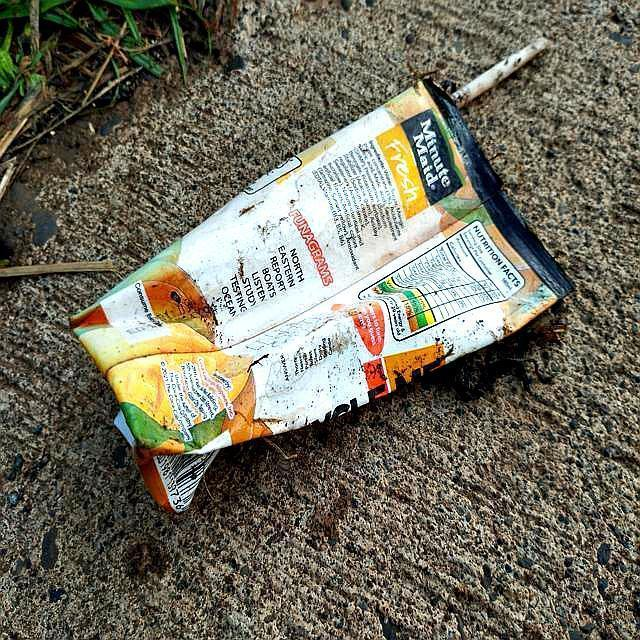Biodegradable: (58, 67, 583, 526)
